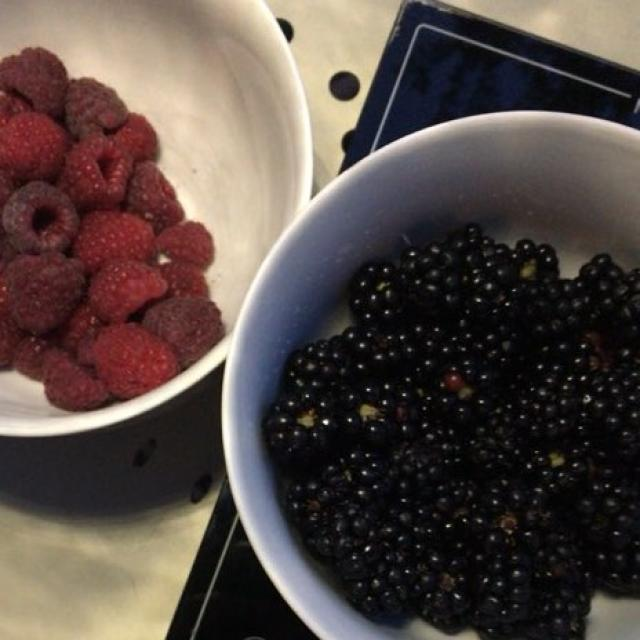blackberry: (274, 224, 637, 627)
raspberries: (3, 72, 219, 405)
